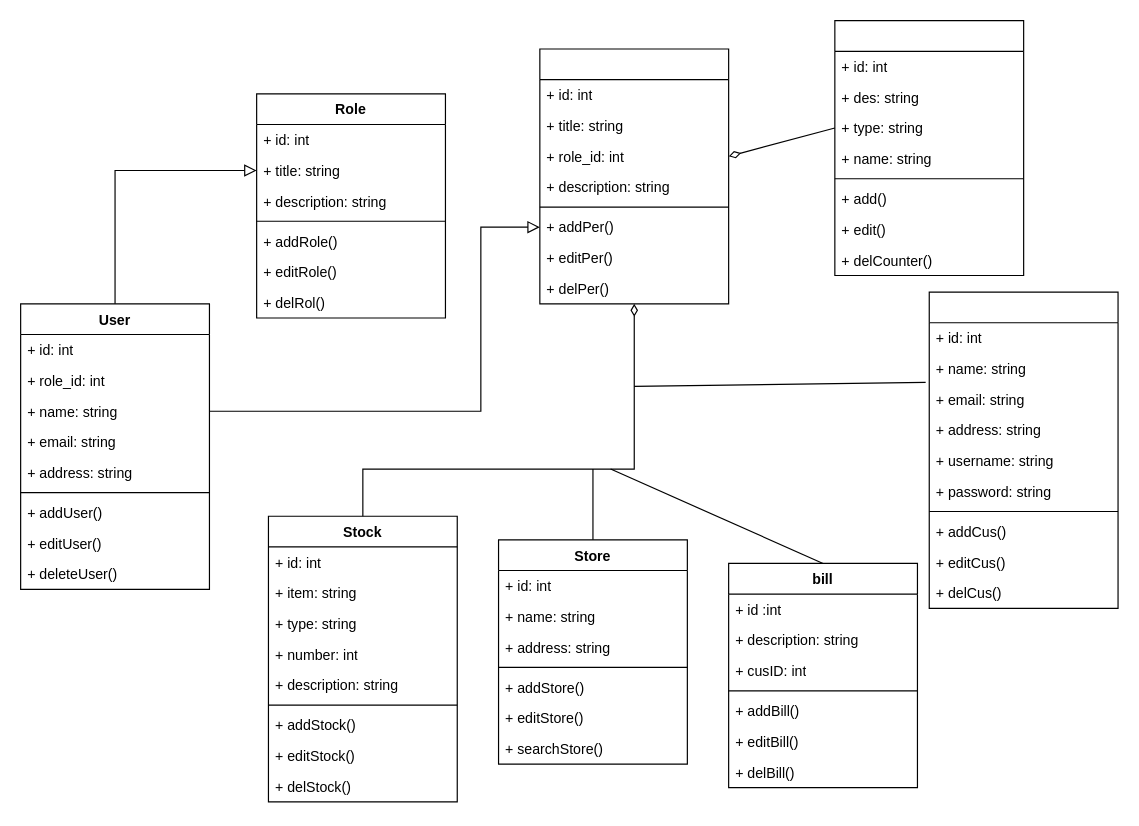
The diagram is 1139 pixels wide and 826 high, and some of its shapes have lost their labels. Each missing label, with the box of its shape:
Billing counter: (834, 19, 1024, 276)
Customer: (928, 291, 1118, 608)
Permission: (539, 48, 729, 304)
